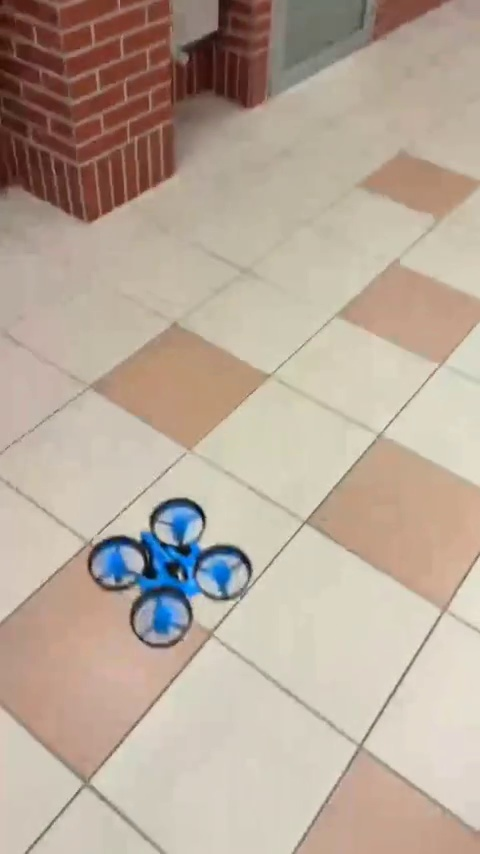drone: (81, 494, 256, 649)
